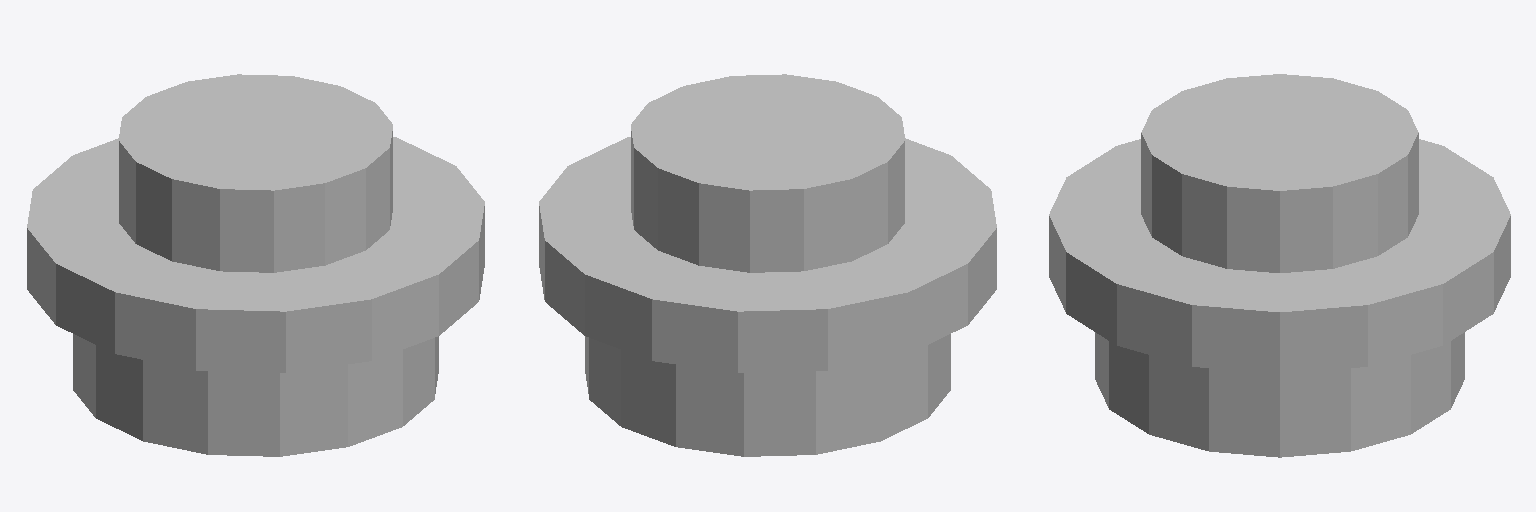
File: Round_Plate_1x1.obj
The picture shows the model from 3 angles: view 1: azimuth 30°, elevation 25°; view 2: azimuth 150°, elevation 25°; view 3: azimuth 270°, elevation 25°; orthographic projection.
Parts seen in each view (by area): view 1: 4-4disc_2.4-4disc_2n_4-4disc_2.011, 4-4cyli_2.4-4cyli_2n_4-4cyli_2.013, 4-4cyli_3.4-4cyli_3n_4-4cyli_3.013, 4-4disc_3.4-4disc_3n_4-4disc_3.010, 4-4cyli_4.4-4cyli_4n_4-4cyli_4.012; view 2: 4-4disc_2.4-4disc_2n_4-4disc_2.011, 4-4cyli_2.4-4cyli_2n_4-4cyli_2.013, 4-4cyli_3.4-4cyli_3n_4-4cyli_3.013, 4-4disc_3.4-4disc_3n_4-4disc_3.010, 4-4cyli_4.4-4cyli_4n_4-4cyli_4.012; view 3: 4-4disc_2.4-4disc_2n_4-4disc_2.011, 4-4cyli_2.4-4cyli_2n_4-4cyli_2.013, 4-4cyli_3.4-4cyli_3n_4-4cyli_3.013, 4-4disc_3.4-4disc_3n_4-4disc_3.010, 4-4cyli_4.4-4cyli_4n_4-4cyli_4.012.
Boxes of the visible parts, box(x1,y1,x2,y2) form: 4-4disc_2.4-4disc_2n_4-4disc_2.011: box(27, 137, 484, 311); 4-4cyli_2.4-4cyli_2n_4-4cyli_2.013: box(73, 334, 438, 456); 4-4cyli_3.4-4cyli_3n_4-4cyli_3.013: box(27, 206, 484, 372); 4-4disc_3.4-4disc_3n_4-4disc_3.010: box(119, 74, 392, 190); 4-4cyli_4.4-4cyli_4n_4-4cyli_4.012: box(119, 131, 392, 272); 4-4disc_2.4-4disc_2n_4-4disc_2.011: box(539, 137, 996, 311); 4-4cyli_2.4-4cyli_2n_4-4cyli_2.013: box(585, 334, 950, 456); 4-4cyli_3.4-4cyli_3n_4-4cyli_3.013: box(539, 206, 996, 372); 4-4disc_3.4-4disc_3n_4-4disc_3.010: box(631, 74, 904, 190); 4-4cyli_4.4-4cyli_4n_4-4cyli_4.012: box(631, 131, 904, 272); 4-4disc_2.4-4disc_2n_4-4disc_2.011: box(1049, 139, 1510, 311); 4-4cyli_2.4-4cyli_2n_4-4cyli_2.013: box(1095, 332, 1464, 457); 4-4cyli_3.4-4cyli_3n_4-4cyli_3.013: box(1049, 216, 1510, 373); 4-4disc_3.4-4disc_3n_4-4disc_3.010: box(1141, 74, 1418, 190); 4-4cyli_4.4-4cyli_4n_4-4cyli_4.012: box(1141, 133, 1418, 272).
Size of the model in its own units: 1.95 by 1.15 by 1.95.